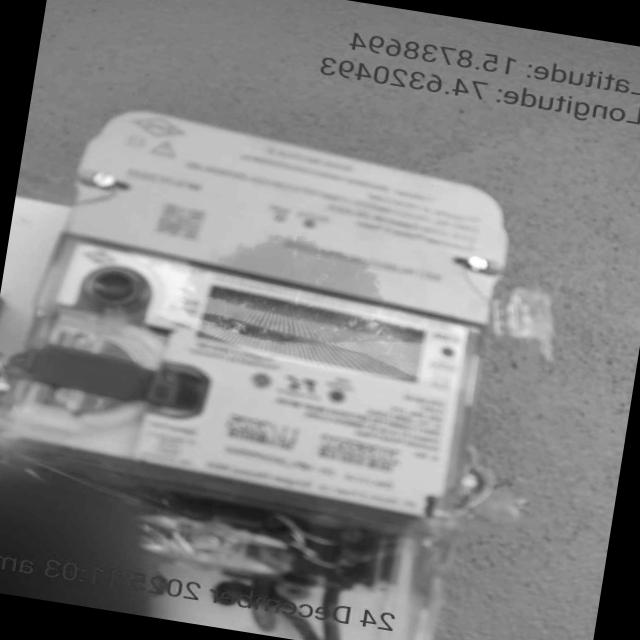meter: (0, 98, 519, 524)
